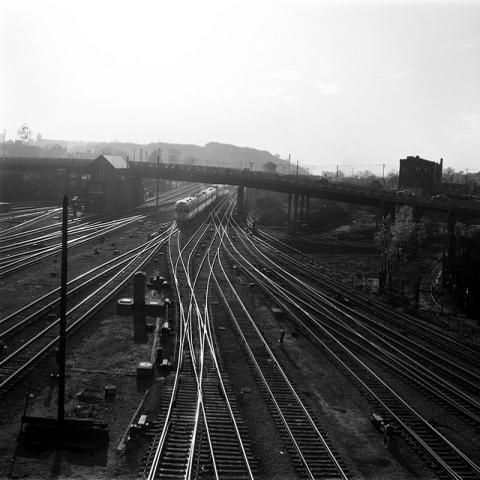car: (431, 194, 450, 203), (396, 189, 415, 197), (316, 178, 330, 183), (240, 168, 253, 172)
